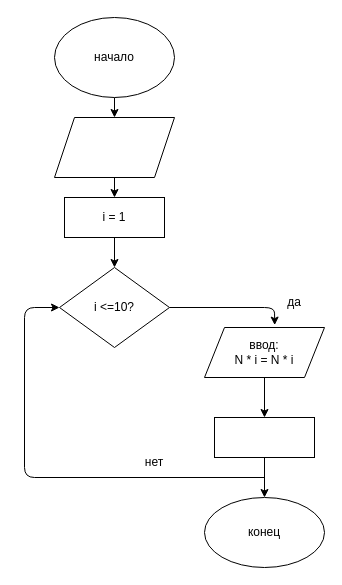
Image size: 342x585. Some labels were removed from this diagram. The centre of each missing label's shape, as x and y in pixels:
i = i + 1: the point at 264,437
ввод: число N: the point at 114,147
